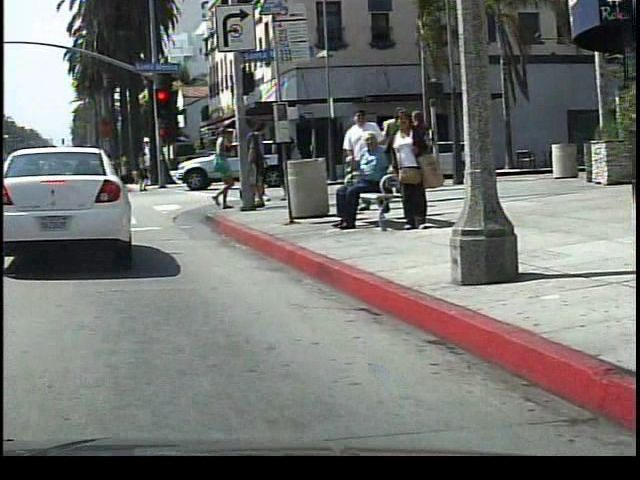person: (329, 133, 398, 238), (381, 111, 431, 234), (203, 125, 240, 214), (130, 150, 155, 196)
